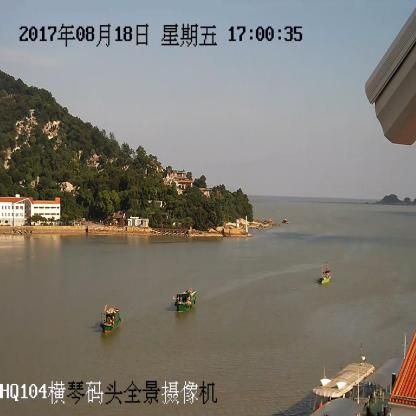Fishing Boat: (102, 307, 121, 332), (174, 292, 196, 309), (319, 271, 330, 284)
